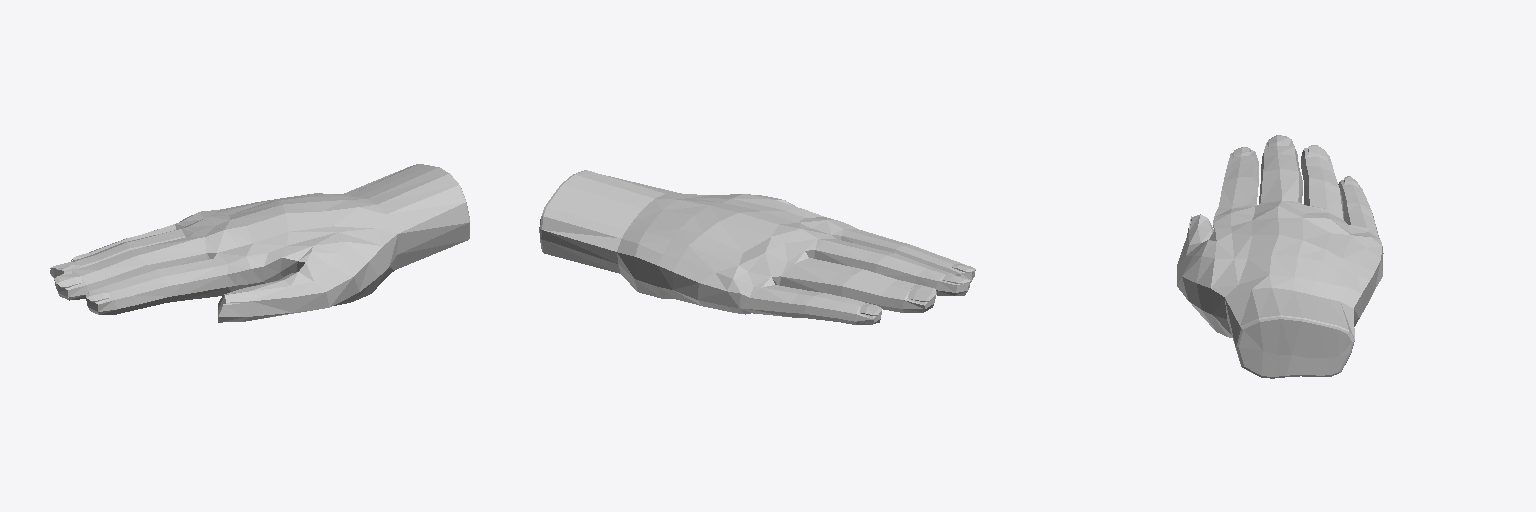
Rendered from TapHand.obj.
3 views of the same model, side by side, from view 1: azimuth 30°, elevation 25°; view 2: azimuth 150°, elevation 25°; view 3: azimuth 270°, elevation 25° (orthographic).
Visible parts, largest first — view 1: R_Smooth_Paper.001; view 2: R_Smooth_Paper.001; view 3: R_Smooth_Paper.001.
Part boxes in pixels (bbox=[...]): R_Smooth_Paper.001: bbox=[50, 164, 469, 322]; R_Smooth_Paper.001: bbox=[539, 170, 975, 324]; R_Smooth_Paper.001: bbox=[1177, 135, 1383, 378].
Size of the model in its own units: 27.77 by 4.72 by 12.37.